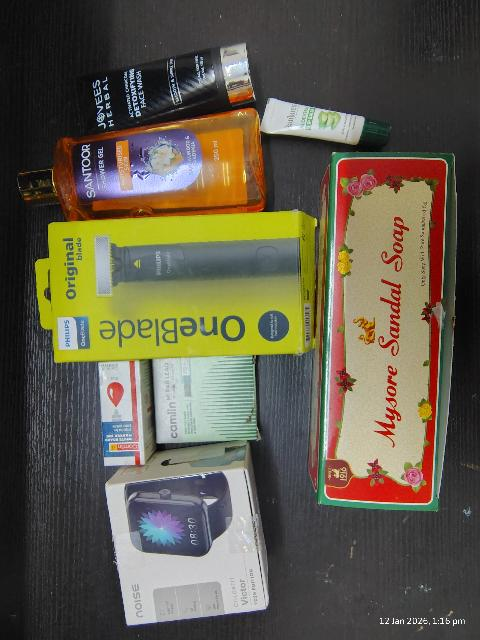banjaras lipbam: (266, 95, 393, 147)
camlin lids: (154, 359, 258, 442)
camlin marker ink: (94, 364, 147, 468)
jovees herbal: (85, 42, 257, 134)
mysore sandal soap: (328, 156, 446, 508)
noise victor smartwatch: (99, 476, 281, 625)
phillips oneblade: (36, 218, 319, 357)
santoor bodywash: (8, 121, 280, 214)
